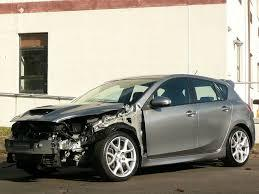Bonnet: (11, 100, 136, 128)
Bumper: (4, 131, 95, 175)
Fender: (89, 110, 148, 167)
